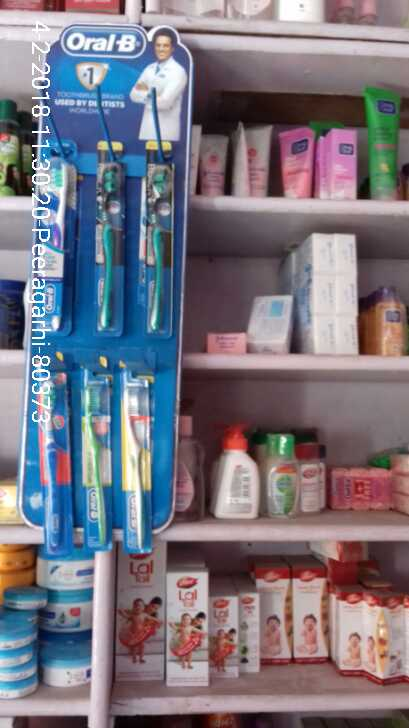oralb: (79, 357, 115, 551), (119, 357, 152, 555), (93, 138, 125, 335), (142, 139, 173, 337)
